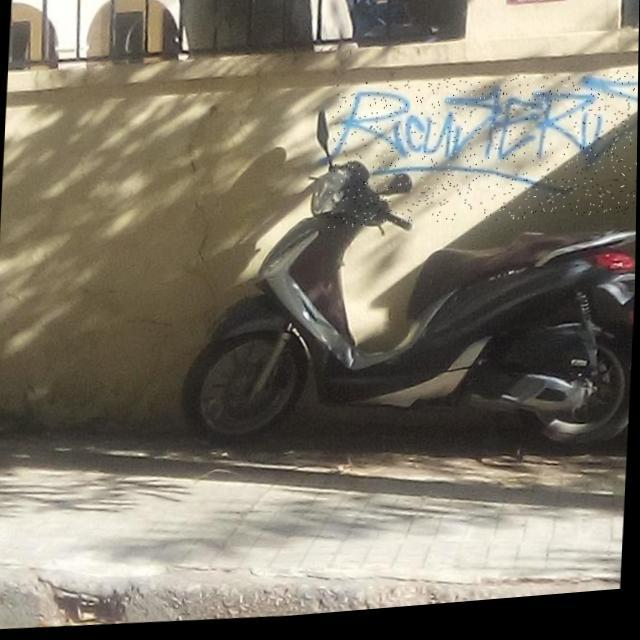-: (327, 69, 639, 244)
